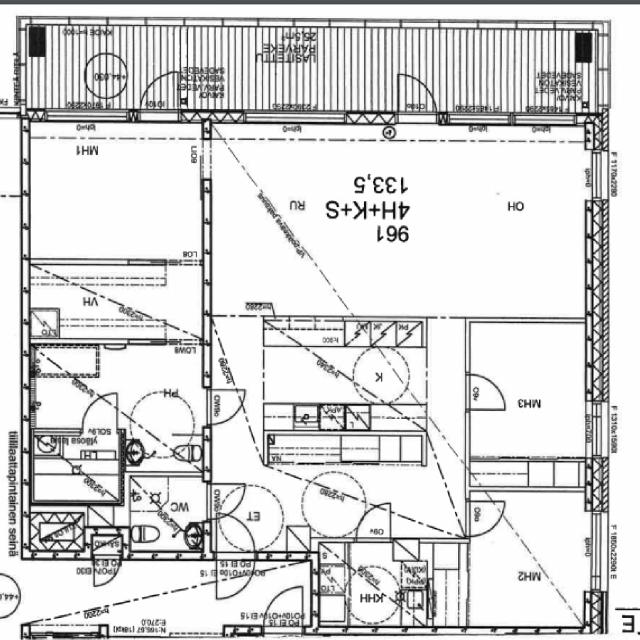door: (138, 67, 181, 123), (398, 71, 436, 123), (216, 513, 255, 560), (216, 552, 255, 598), (203, 390, 246, 425), (203, 484, 245, 519), (83, 393, 117, 435), (356, 503, 390, 542), (465, 501, 504, 535), (465, 375, 503, 409)
